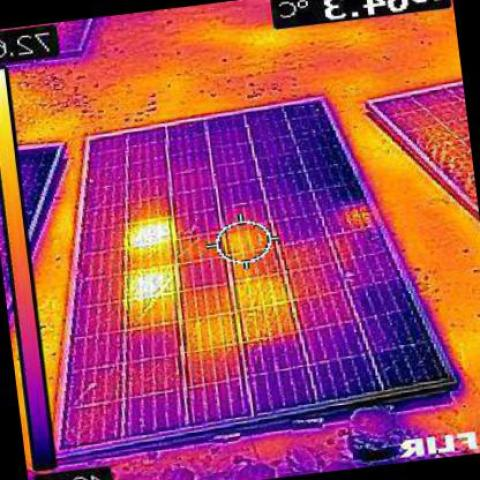fault: (130, 265, 172, 306), (131, 219, 170, 244)
